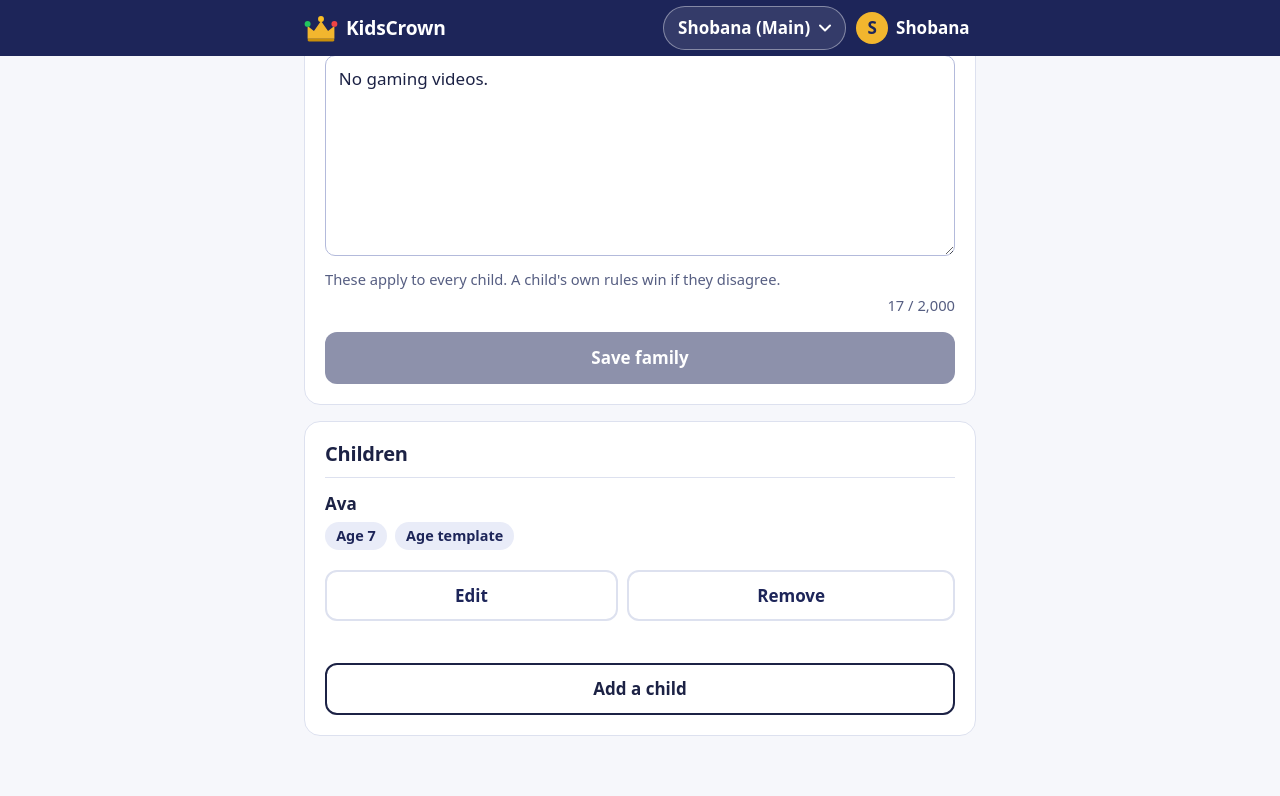
the profile page › edits a child's name and age
The image size is (1280, 796).
(page scrolled)
Click the button "Edit" at (471,595), box [325, 570, 618, 621]
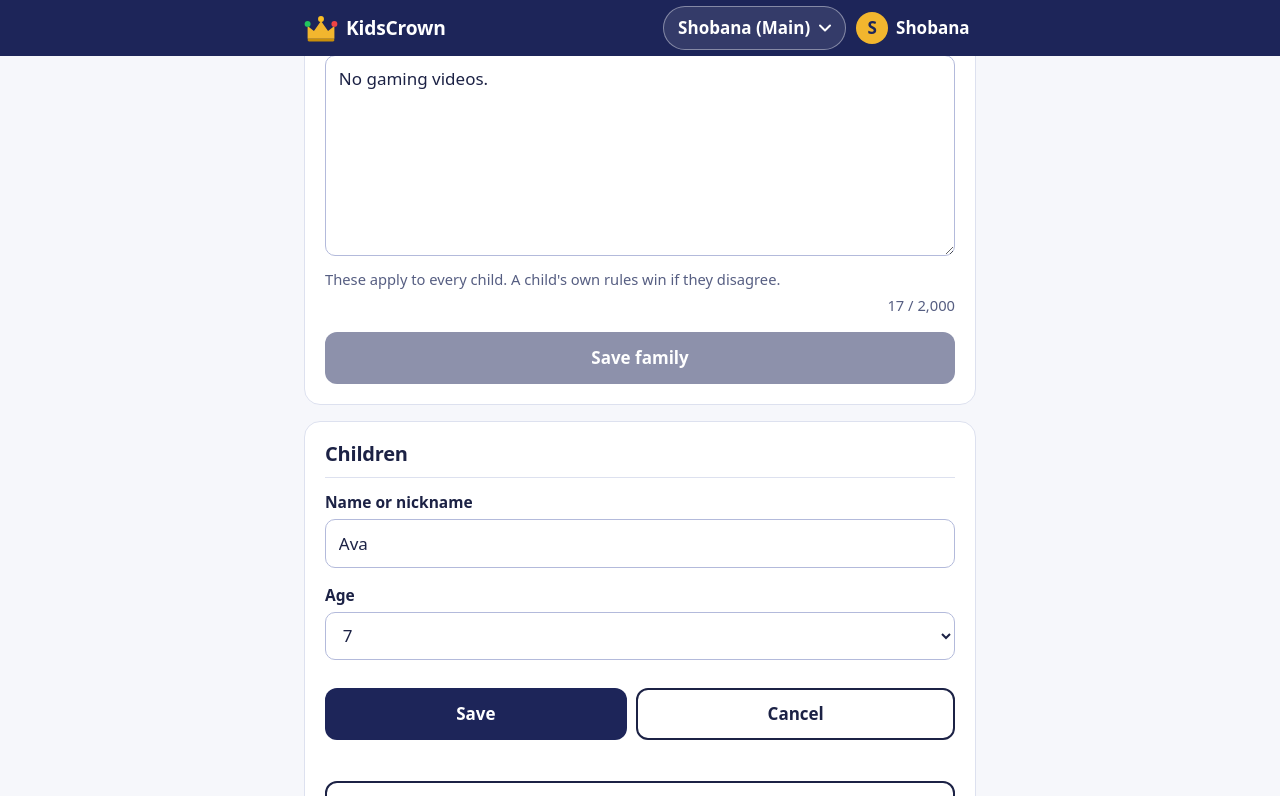
Replace the text in the field labelled "Name or nickname" with "Ava K" at (640,543), box [325, 519, 955, 568]
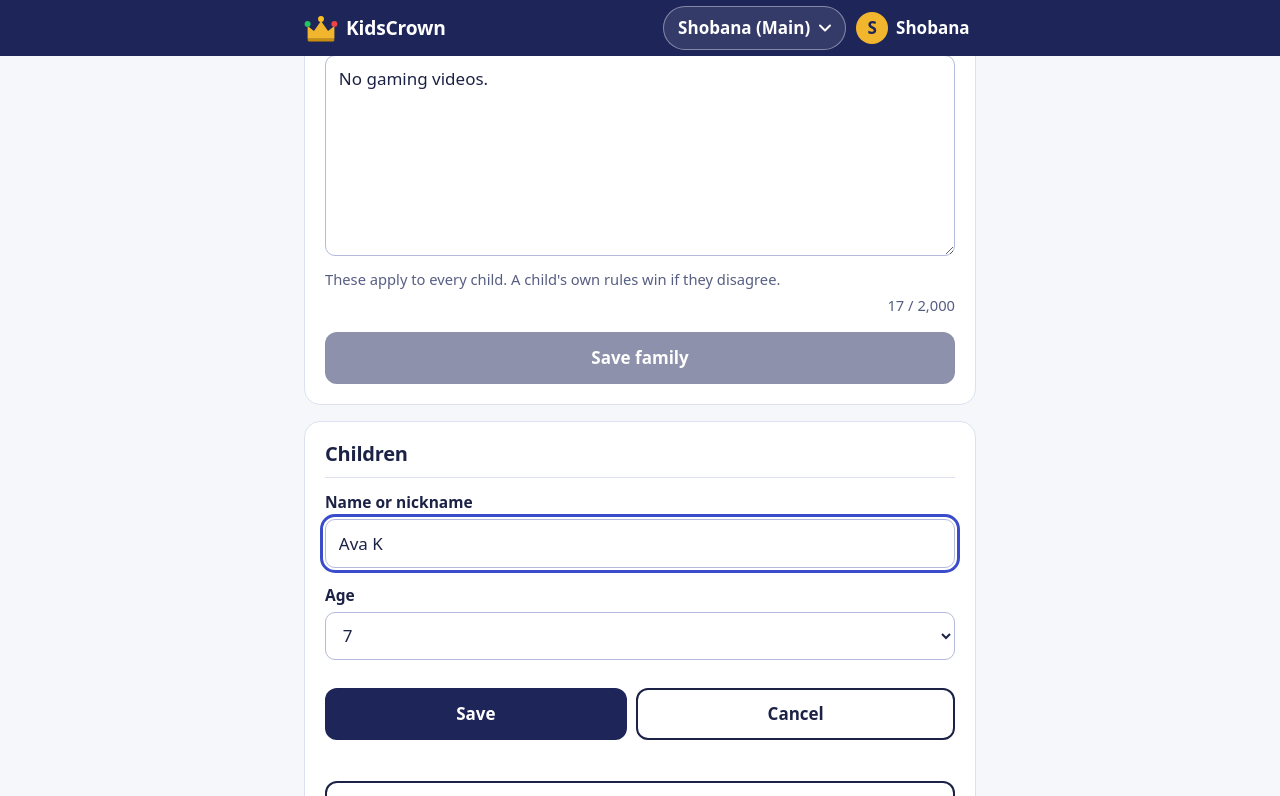
Select "8" in the dropdown labelled "Age" at (640,636), box [325, 612, 955, 660]
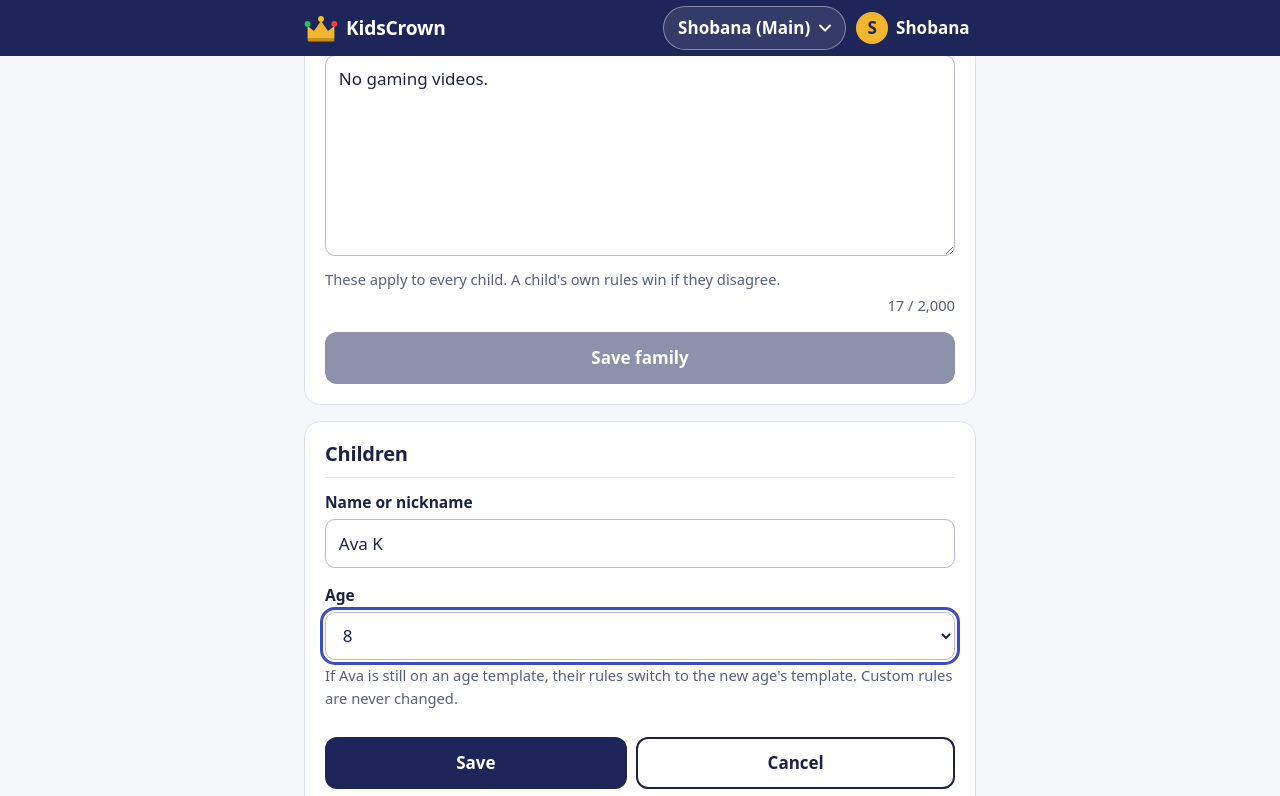
Now the text "rules switch to the new age's template" is shown, box [325, 666, 952, 708]
Click the button "Save" at (476,763), box [325, 737, 627, 788]
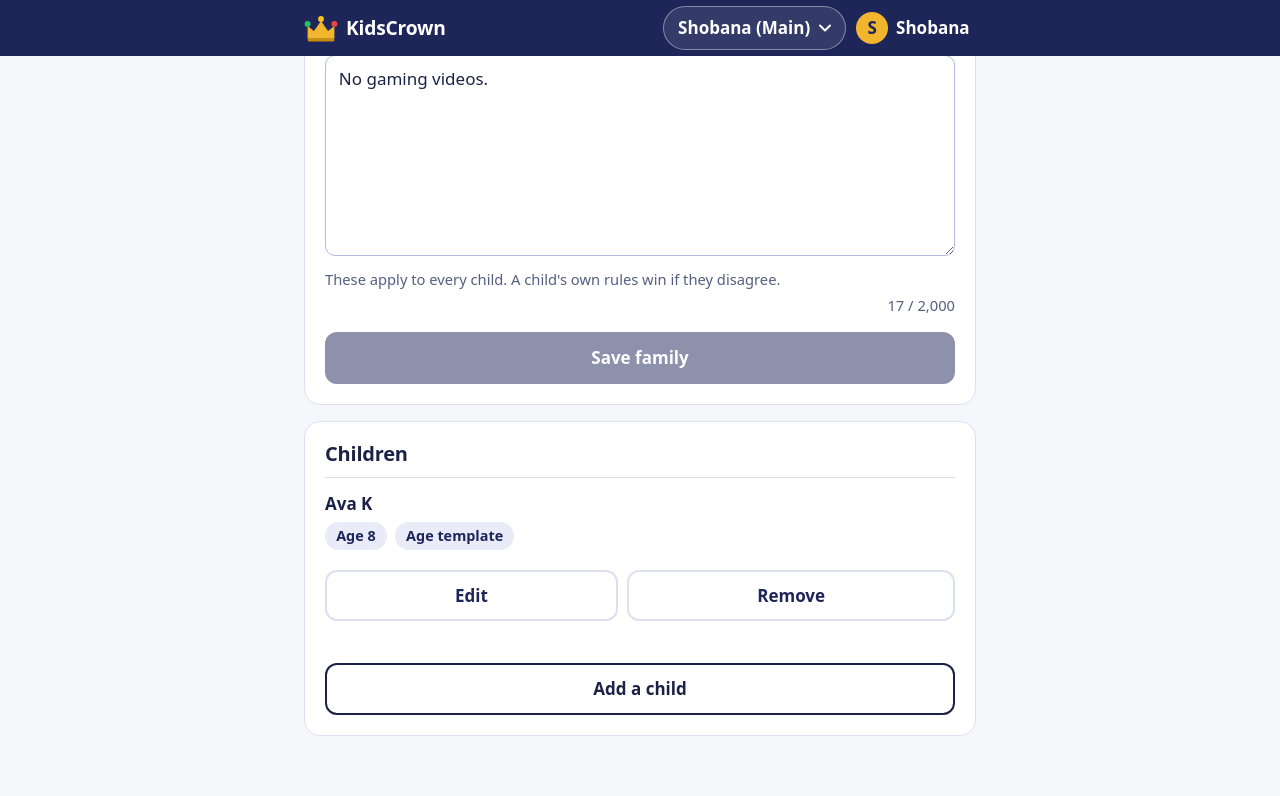
Now the text "Ava K" is shown, box [325, 492, 372, 515]
